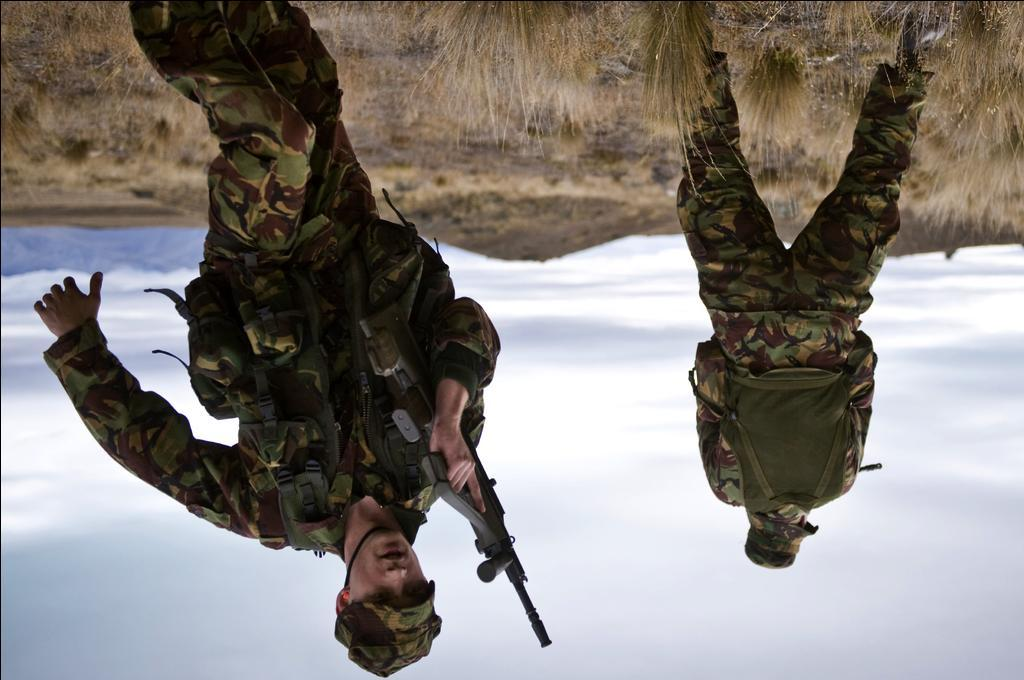gun: (360, 299, 555, 645)
